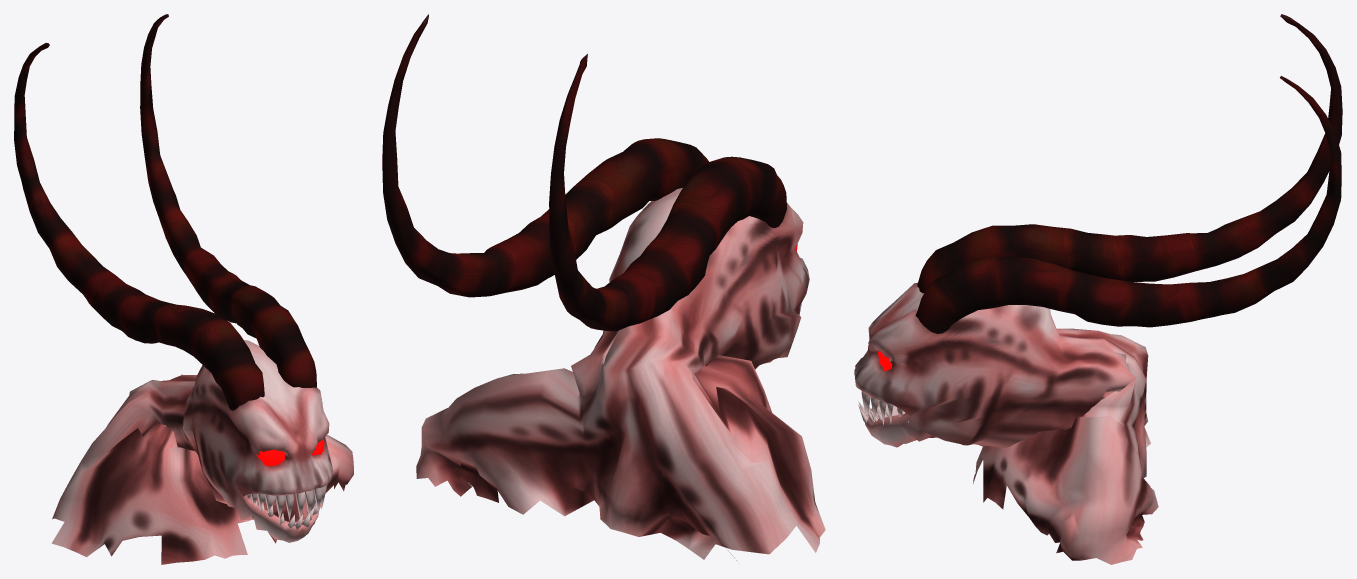
Rendered from hell_head.glb.
3 views of the same model, side by side, from view 1: azimuth 30°, elevation 25°; view 2: azimuth 150°, elevation 25°; view 3: azimuth 270°, elevation 25° (orthographic). The views are drawn at different scales.
Parts seen in each view (by area): view 1: demon_head, jaw; view 2: demon_head, jaw; view 3: demon_head, jaw.
Part boxes in pixels (x1,y1,x2,y2): demon_head: (14,14,353,564); jaw: (175,437,327,542); demon_head: (382,14,825,560); jaw: (705,303,801,369); demon_head: (854,14,1342,564); jaw: (858,391,1083,448).
Bounding box in the file's own units: 0.6144 × 0.8374 × 0.8346.
1 material, 1 textured.
